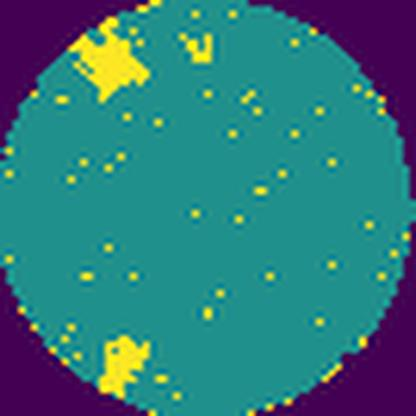Loc: (65, 13, 152, 103), (96, 331, 151, 399)
